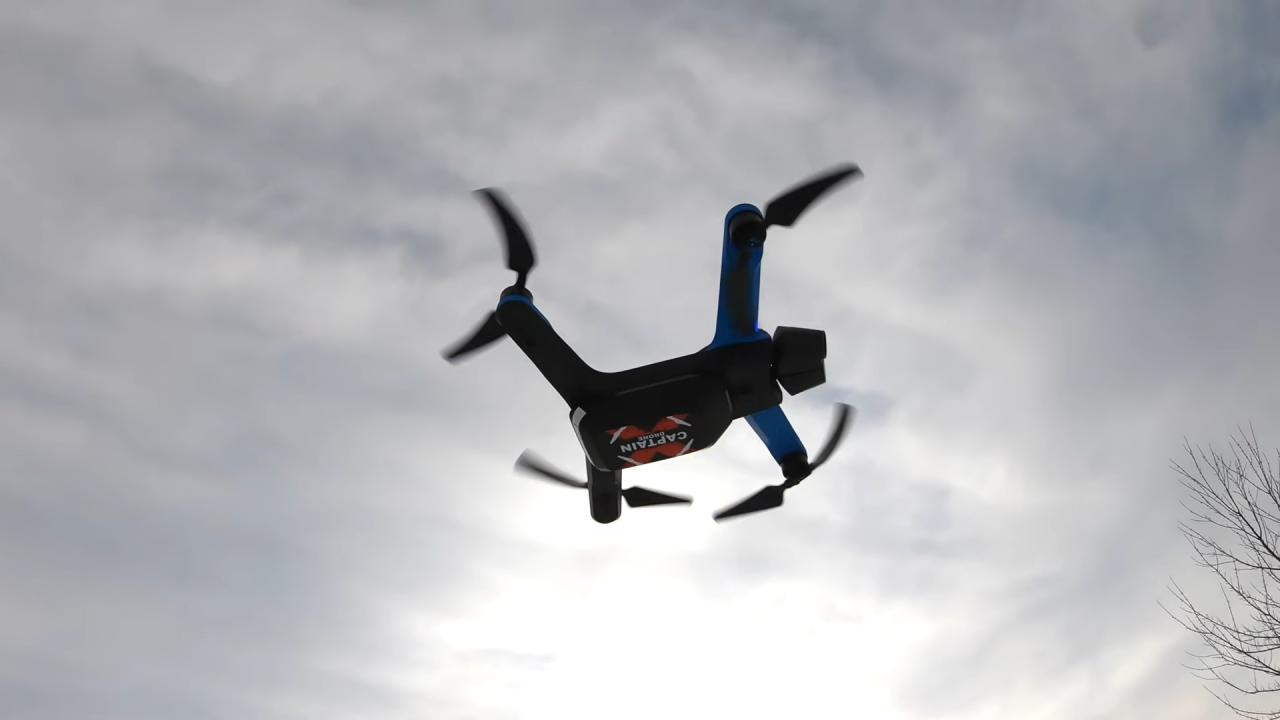Drone: (416, 143, 921, 544)
